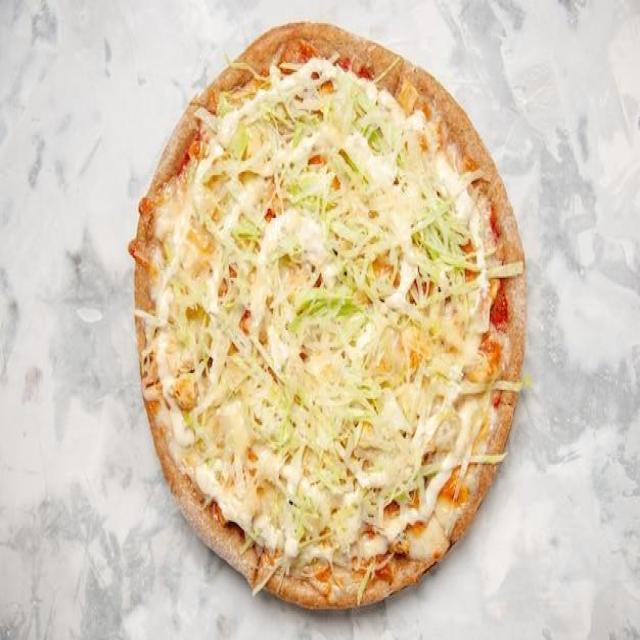pizza: (133, 19, 526, 610)
